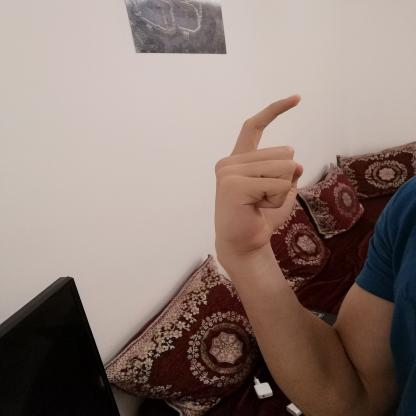RAA: (201, 85, 320, 258)
